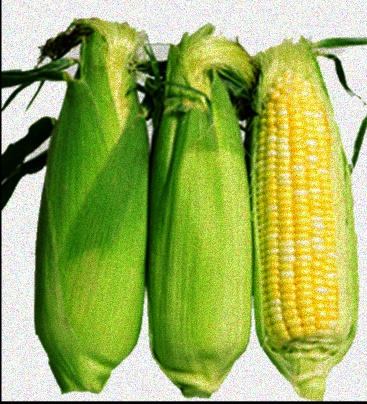corn: (250, 30, 358, 390)
corn_plant: (10, 8, 149, 395), (154, 29, 246, 388)
